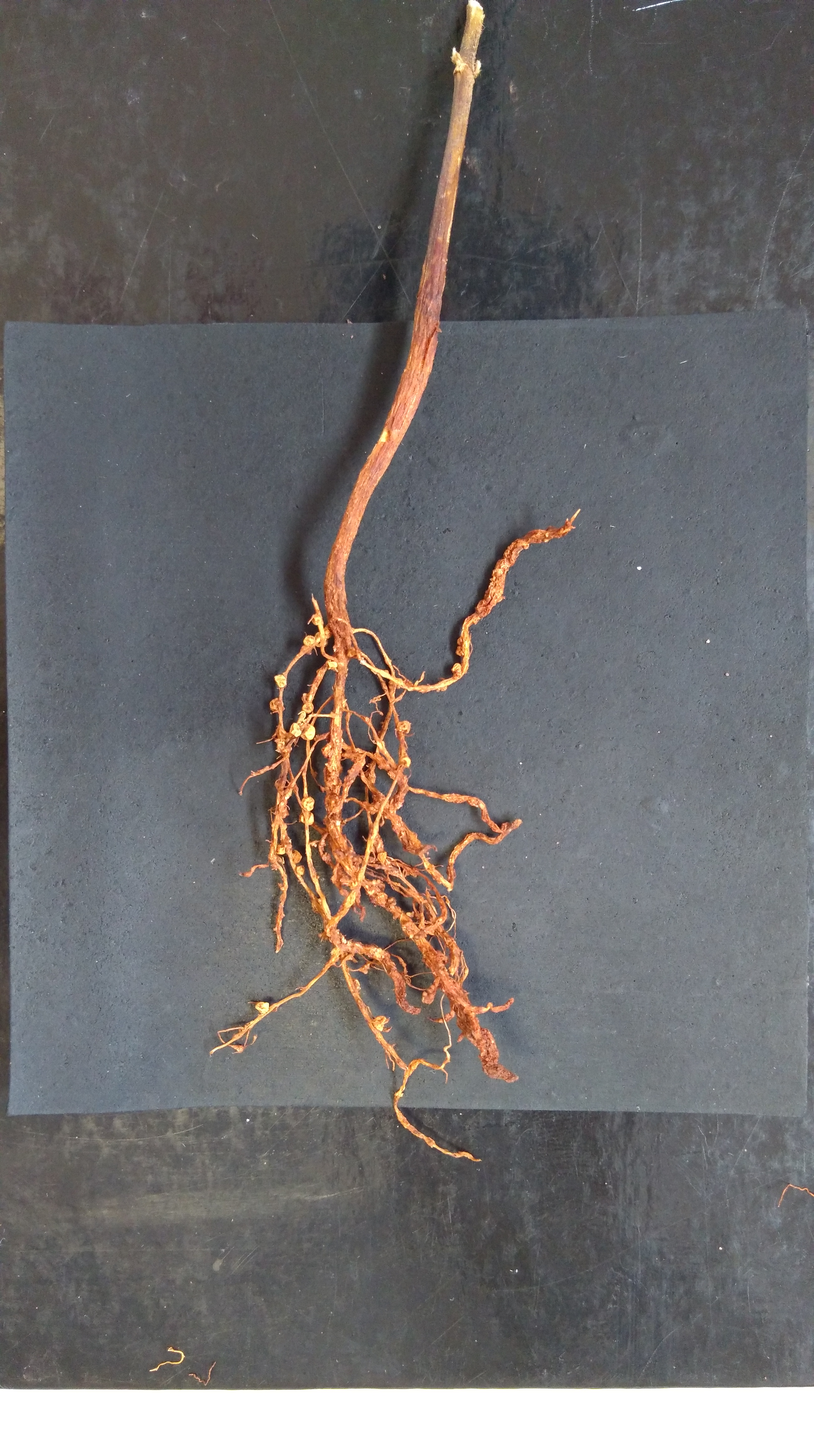nodule: (370, 1014, 388, 1032), (267, 696, 286, 713), (313, 630, 330, 648), (299, 795, 316, 812), (300, 723, 316, 741), (299, 811, 316, 826), (273, 673, 288, 689), (396, 719, 412, 734), (289, 721, 302, 737), (254, 1001, 270, 1014), (300, 701, 315, 714), (302, 634, 316, 647), (400, 755, 413, 768), (310, 613, 322, 627), (291, 849, 302, 864), (376, 851, 388, 863), (450, 662, 463, 673), (274, 845, 286, 856), (295, 863, 305, 876), (346, 649, 358, 658), (300, 693, 309, 704), (327, 661, 338, 669)
